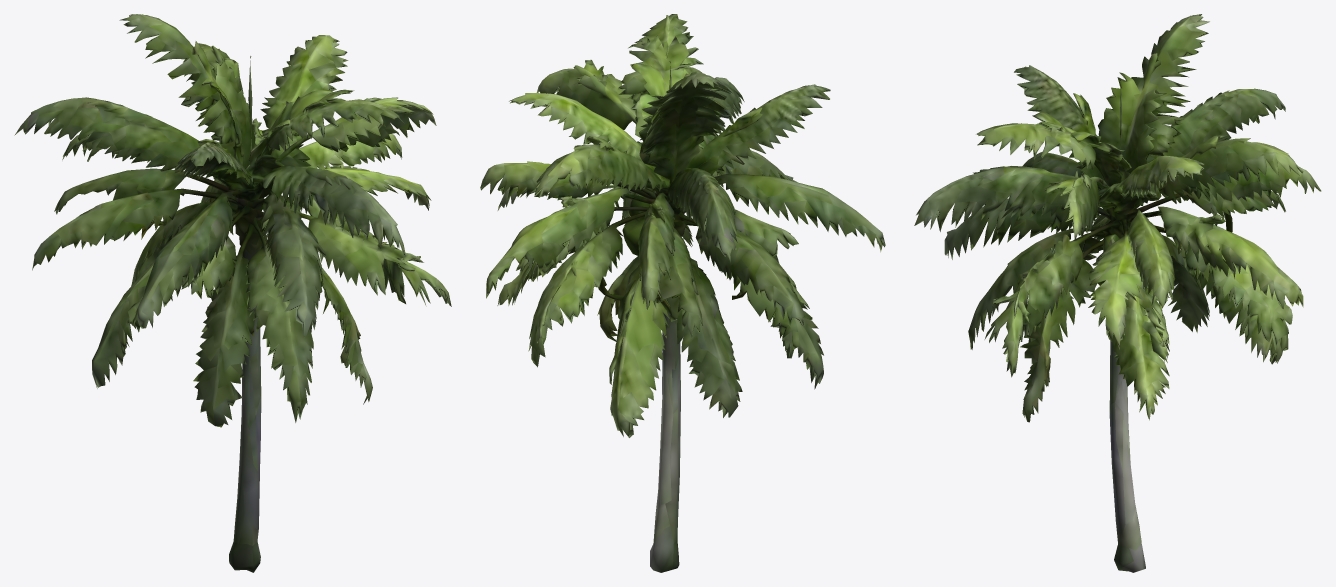
The model's file is tree_palm.glb.
The picture shows the model from 3 angles, left to right: view 1: azimuth 30°, elevation 25°; view 2: azimuth 150°, elevation 25°; view 3: azimuth 270°, elevation 25°; orthographic projection. The views are drawn at different scales.
Visible parts, largest first — view 1: tripo_node_59f7ce6d-f21c-4995-af91-3596ccaa8a69; view 2: tripo_node_59f7ce6d-f21c-4995-af91-3596ccaa8a69; view 3: tripo_node_59f7ce6d-f21c-4995-af91-3596ccaa8a69.
Part boxes in pixels (<box>): tripo_node_59f7ce6d-f21c-4995-af91-3596ccaa8a69: <box>14,14,451,572</box>; tripo_node_59f7ce6d-f21c-4995-af91-3596ccaa8a69: <box>480,14,885,572</box>; tripo_node_59f7ce6d-f21c-4995-af91-3596ccaa8a69: <box>914,14,1321,572</box>.
Size of the model in its own units: 0.6792 by 1 by 0.7091.
1 material, 1 textured.
